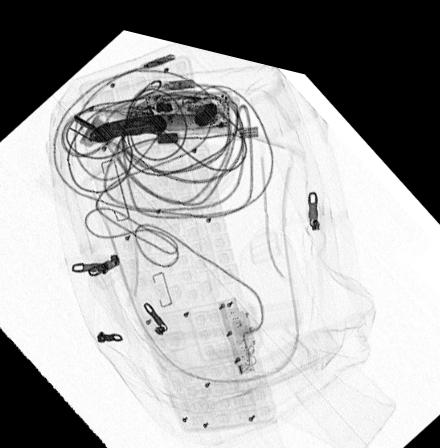Knife: (87, 105, 220, 139)
